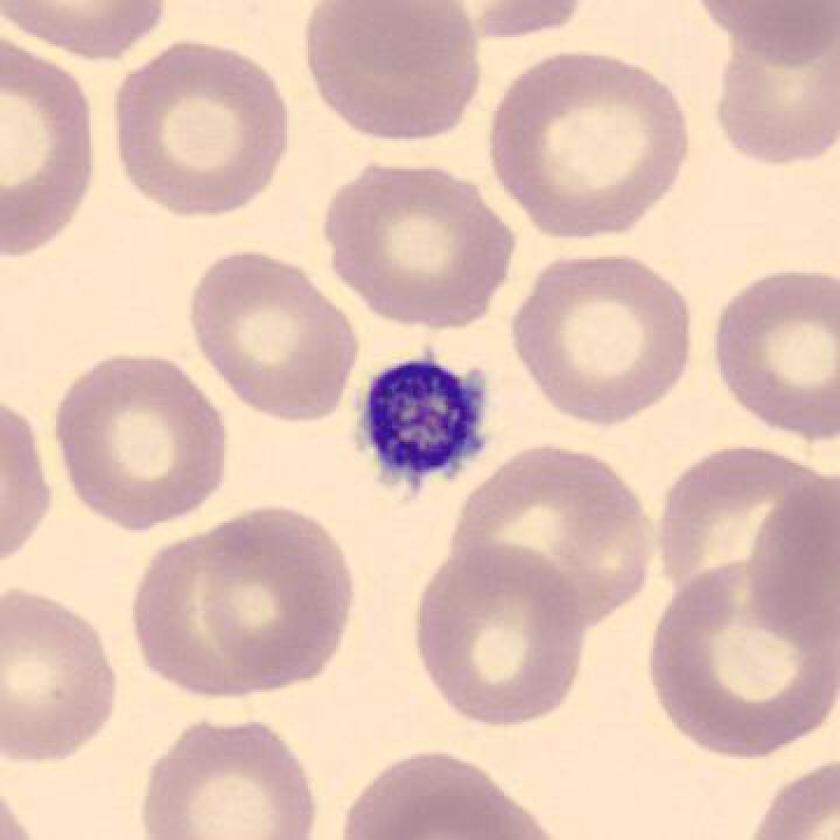platelets: (349, 343, 496, 494)
